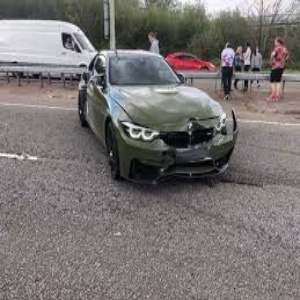bumper: (163, 124, 250, 186)
